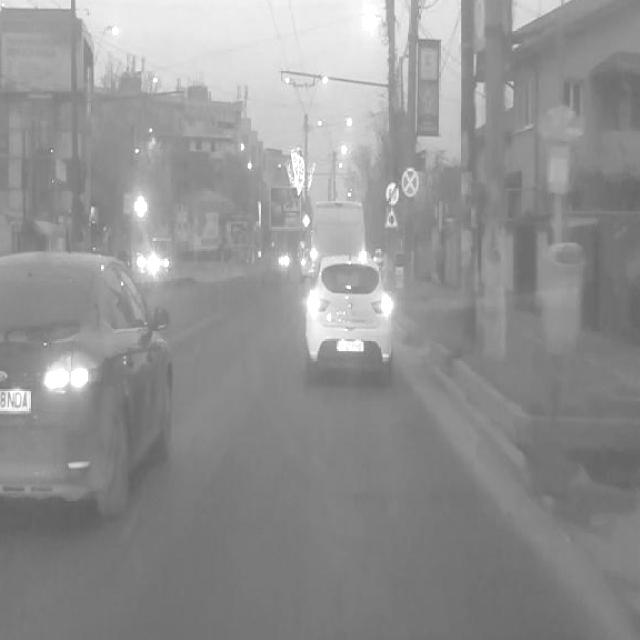licenseplate: (335, 338, 366, 353)
